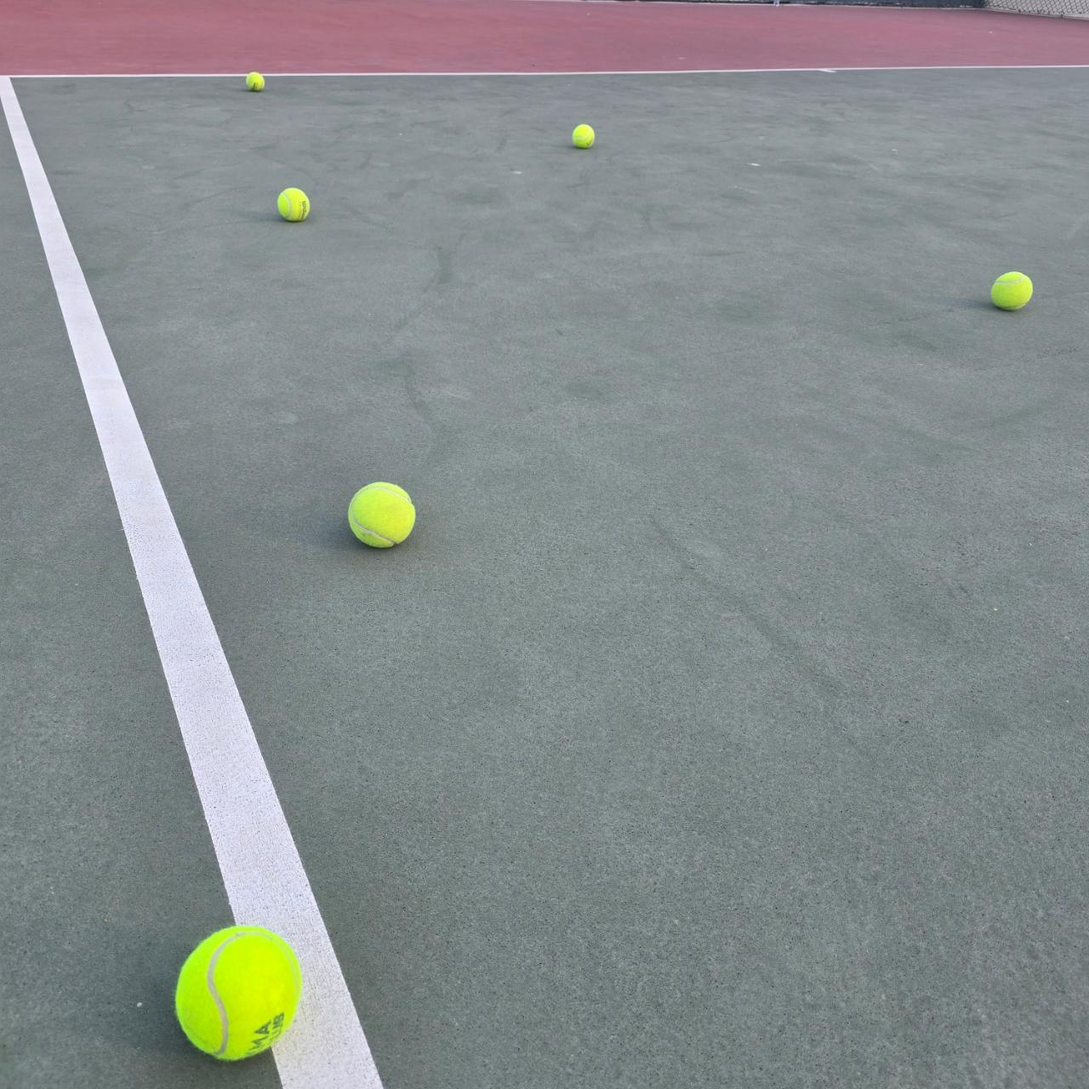tennis-ball: (172, 922, 303, 1063), (345, 478, 417, 549), (989, 268, 1034, 311), (275, 185, 311, 221), (570, 121, 596, 148), (245, 71, 265, 92)
